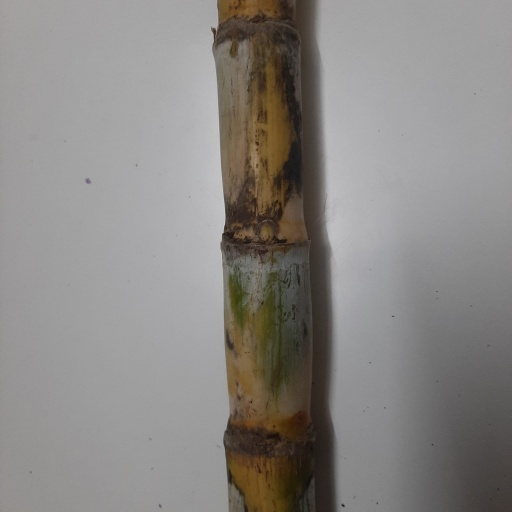Bud: (257, 219, 279, 244)
